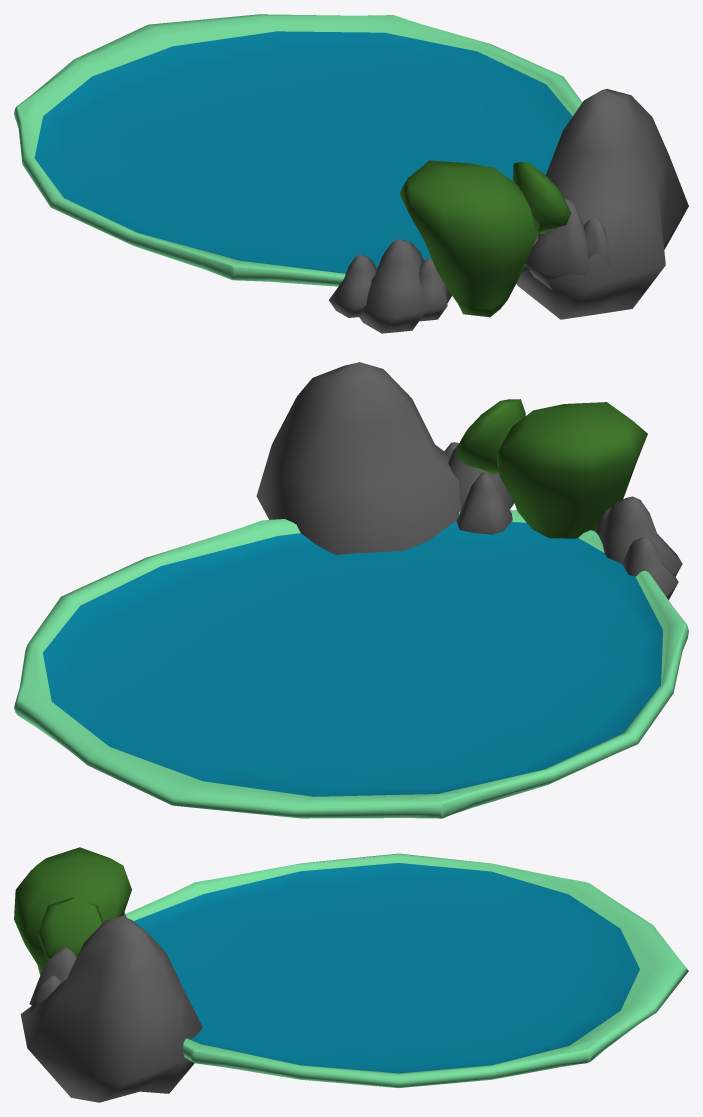
Rendered from Water_whole.fbx.
The picture shows the model from 3 angles, top to bottom: view 1: azimuth 30°, elevation 25°; view 2: azimuth 150°, elevation 25°; view 3: azimuth 270°, elevation 25°; orthographic projection. The views are drawn at different scales.
Visible parts, largest first — view 1: pCube22; view 2: pCube22; view 3: pCube22.
Boxes of the visible parts, left/top/right/bottom form: pCube22: left=14, top=14, right=688, bottom=333; pCube22: left=14, top=362, right=688, bottom=818; pCube22: left=14, top=847, right=688, bottom=1102.
Size of the model in its own units: 3370 by 1240 by 4203.
